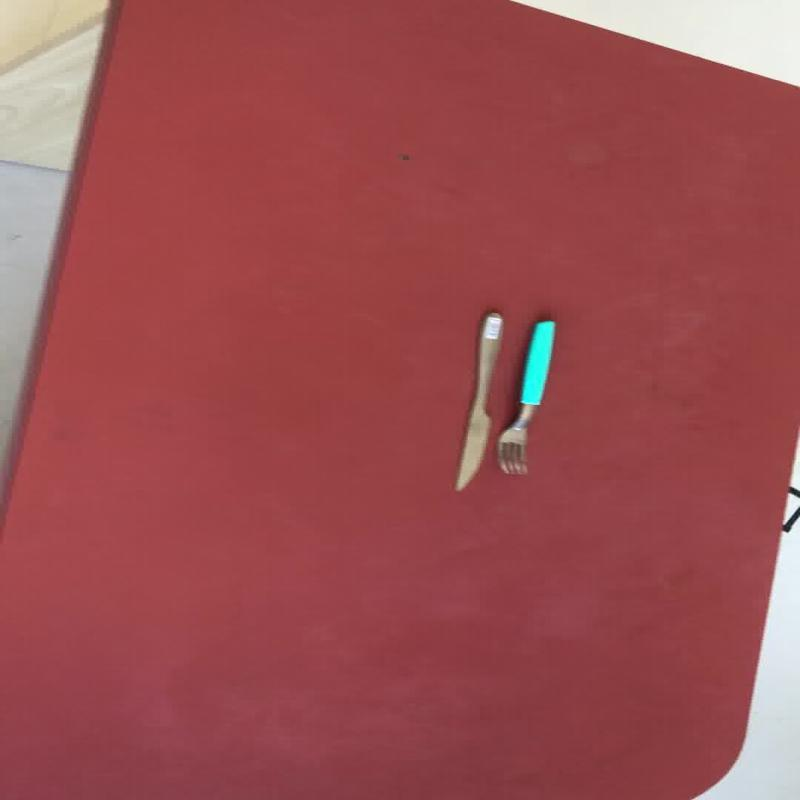fork: (494, 318, 556, 474)
knife: (453, 309, 504, 491)
